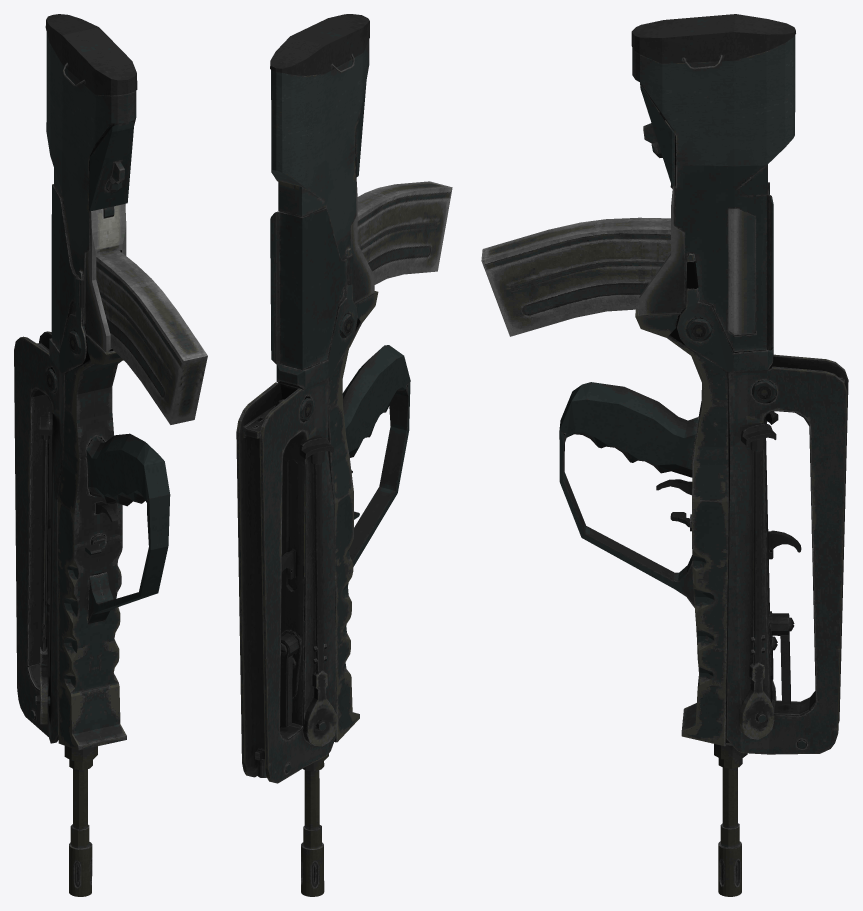
The model's file is w_rif_famas.obj.
3 renders of one model, left to right at view 1: azimuth 30°, elevation 25°; view 2: azimuth 150°, elevation 25°; view 3: azimuth 270°, elevation 25°, orthographic. The views are drawn at different scales.
Size of the model in its own units: 0.0289 by 0.3546 by 0.1356.
Materials: 1 (1 with a texture image).
